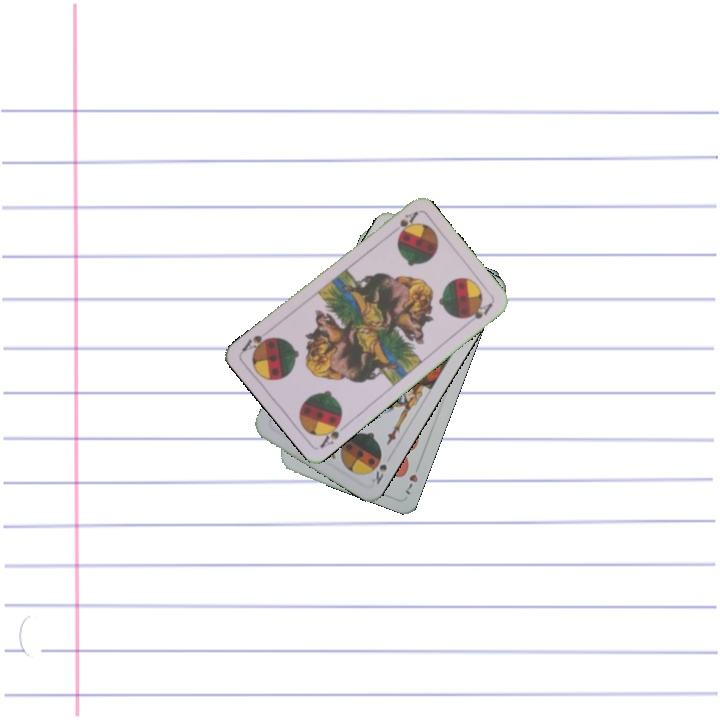H7: (401, 459, 422, 497)
SA: (386, 207, 420, 238), (316, 415, 345, 451)
SK: (366, 460, 390, 487)
